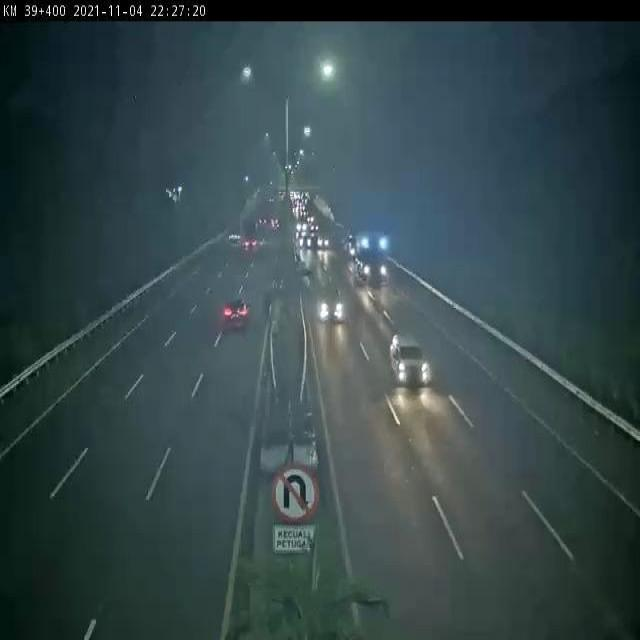car: (390, 331, 431, 386), (317, 284, 345, 324), (223, 299, 251, 328)
truck-m-: (354, 232, 388, 284)
